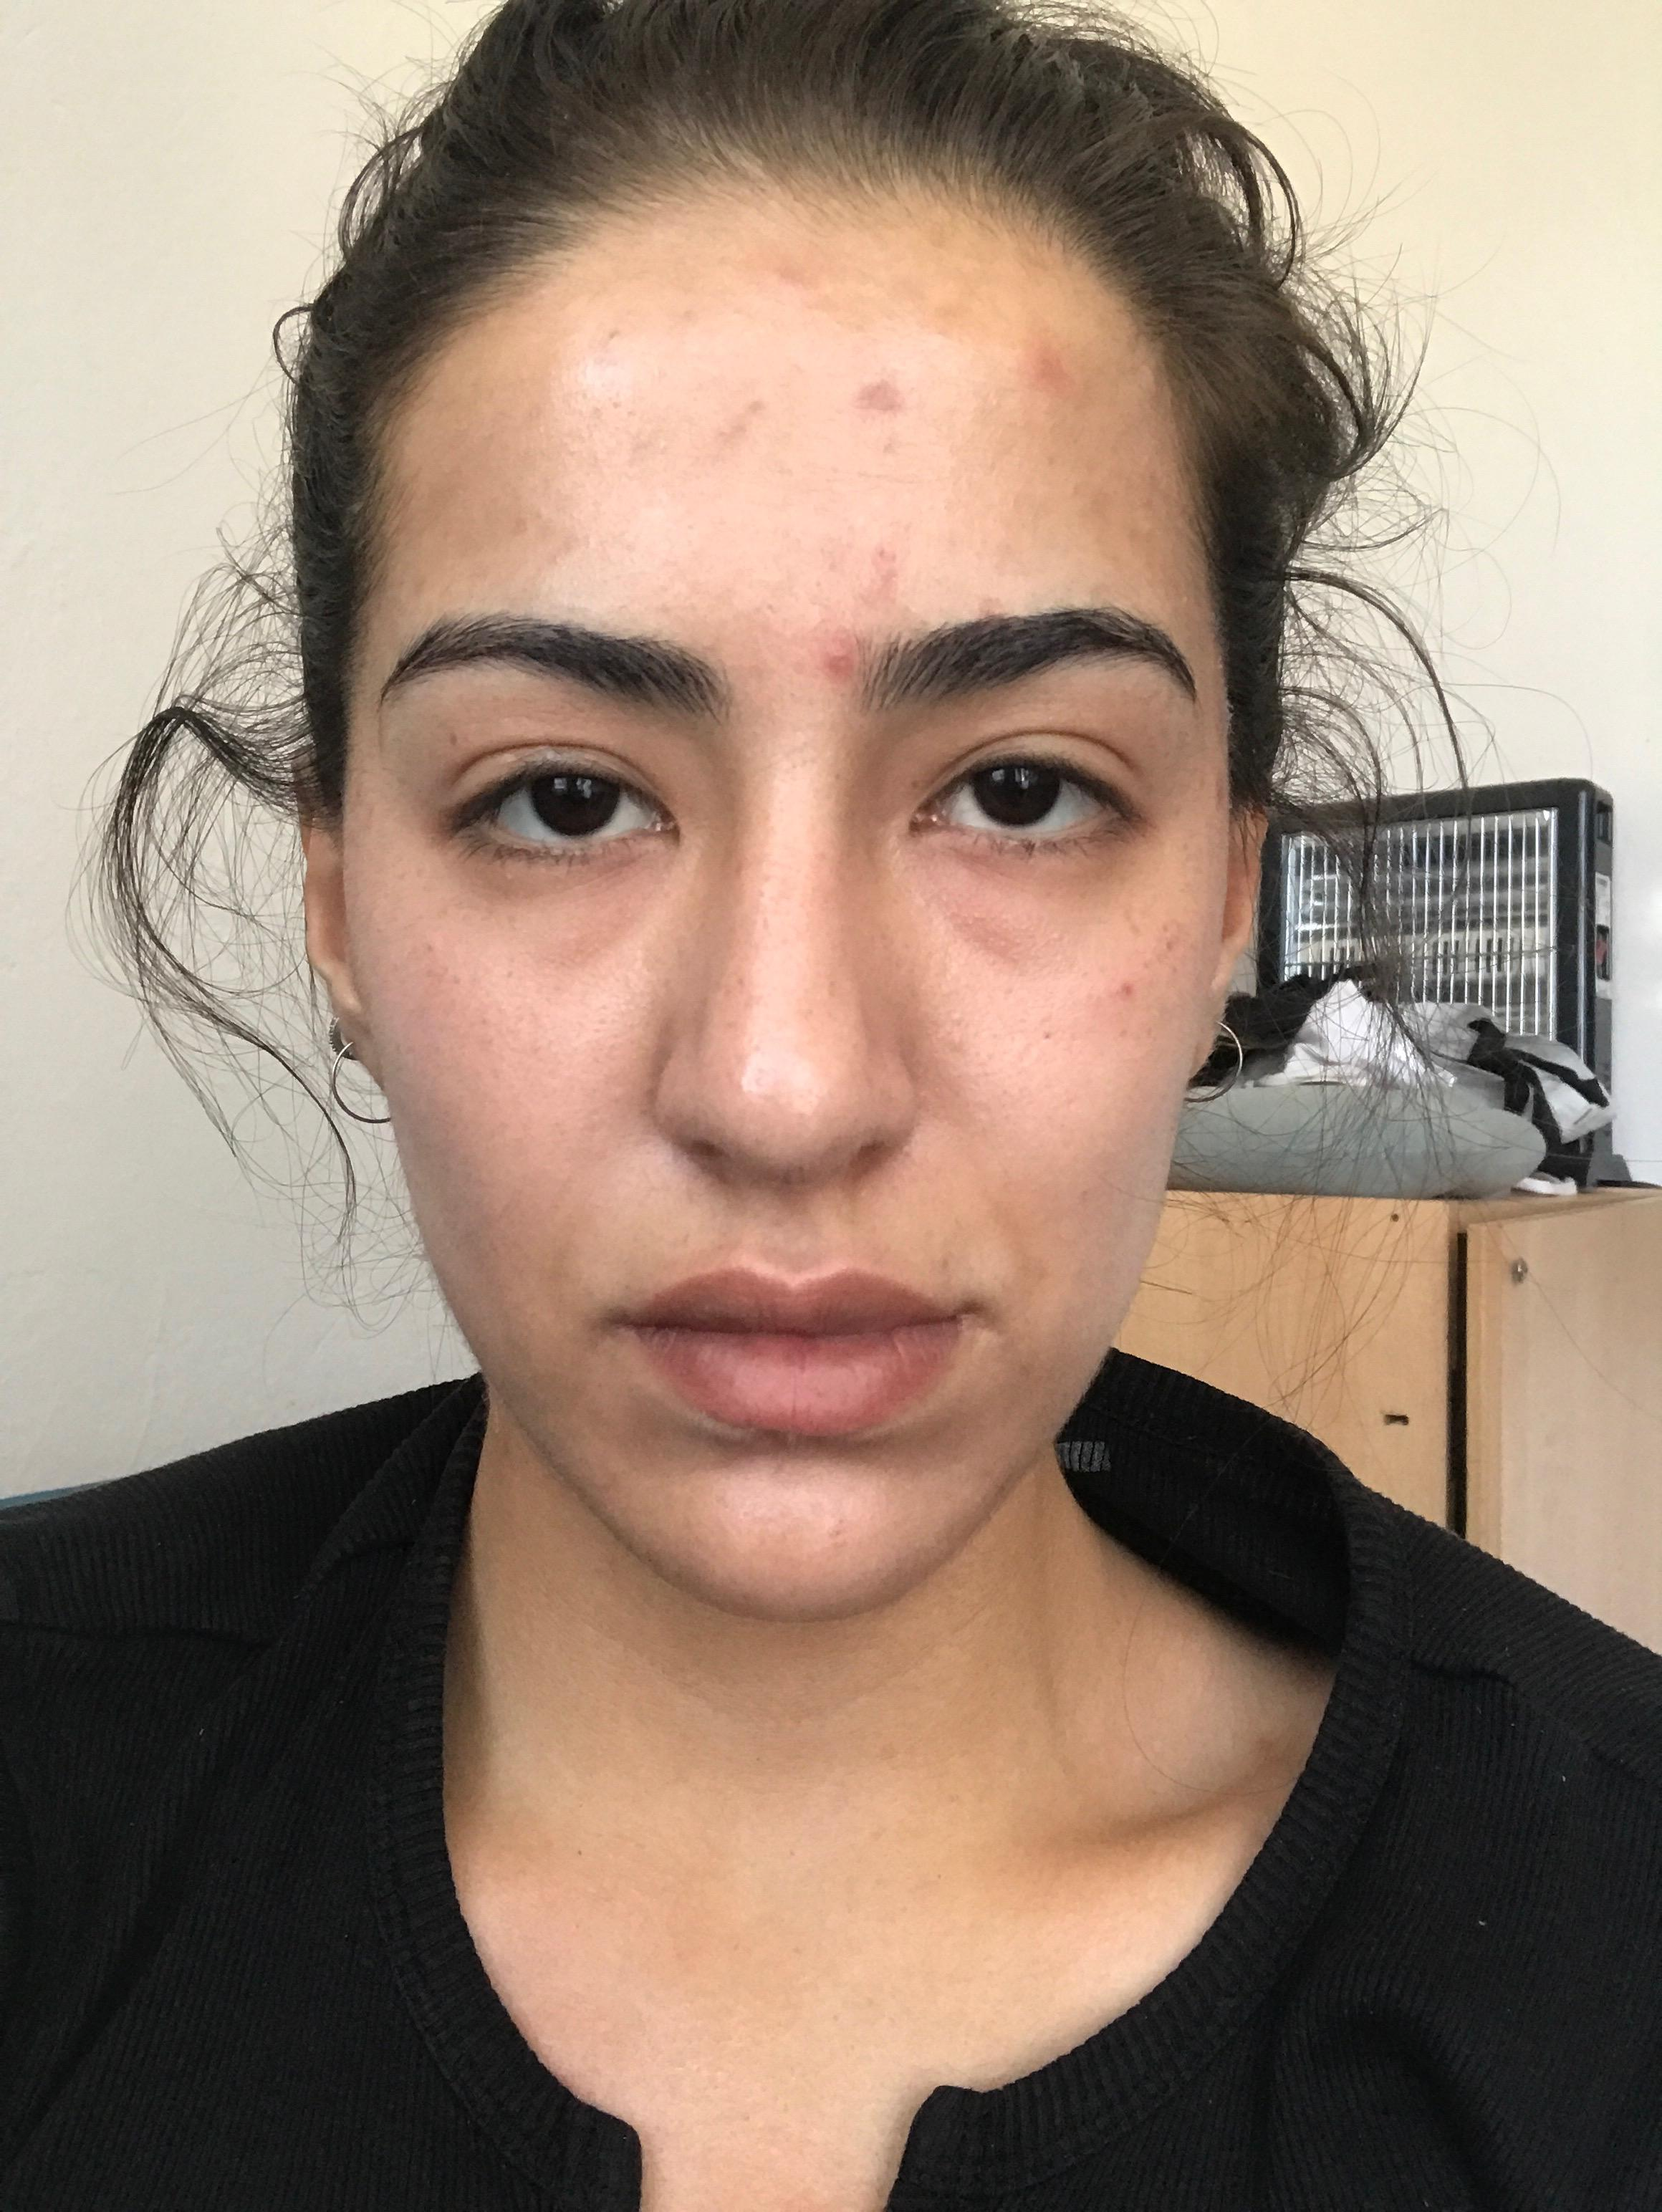Acne: (1014, 332, 1074, 405), (712, 393, 772, 464), (861, 532, 903, 613), (791, 307, 880, 339), (855, 374, 911, 414), (824, 632, 862, 679), (924, 314, 971, 342), (943, 1007, 965, 1061), (819, 1512, 852, 1549), (770, 264, 812, 292), (1157, 918, 1191, 953), (635, 424, 669, 457), (594, 325, 622, 354), (1109, 976, 1140, 1002), (677, 300, 704, 328), (1034, 1025, 1056, 1048)
Blackheads: (752, 864, 773, 939)
Englarged-Pores: (587, 969, 660, 1053), (931, 985, 992, 1079)
Eyebags: (889, 826, 1173, 976), (433, 835, 674, 988)
Wrinkles: (807, 464, 924, 487)
